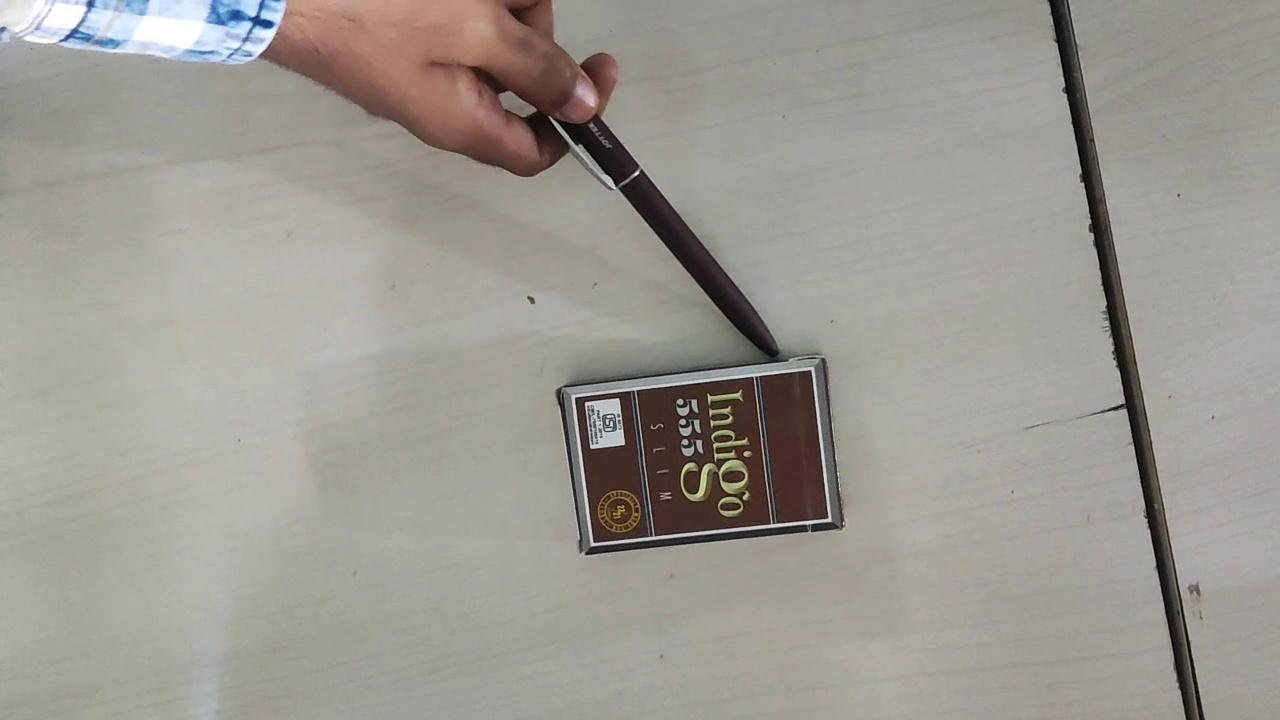BEX: (573, 369, 830, 545)
